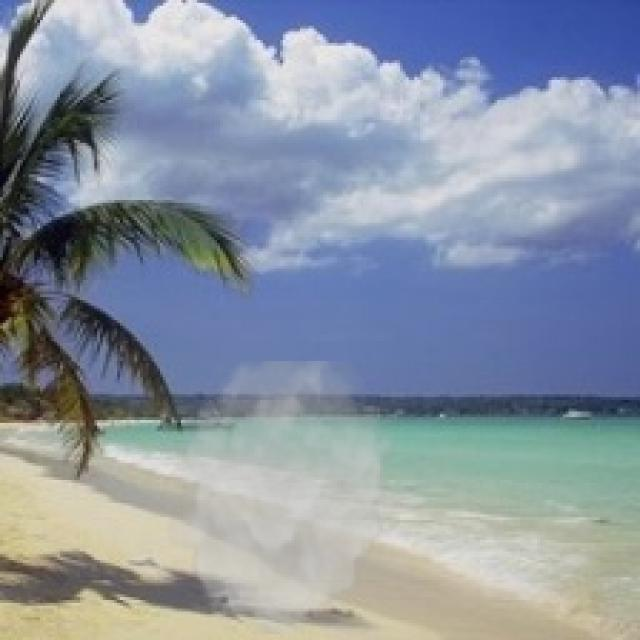Smoke: (166, 360, 406, 634)
